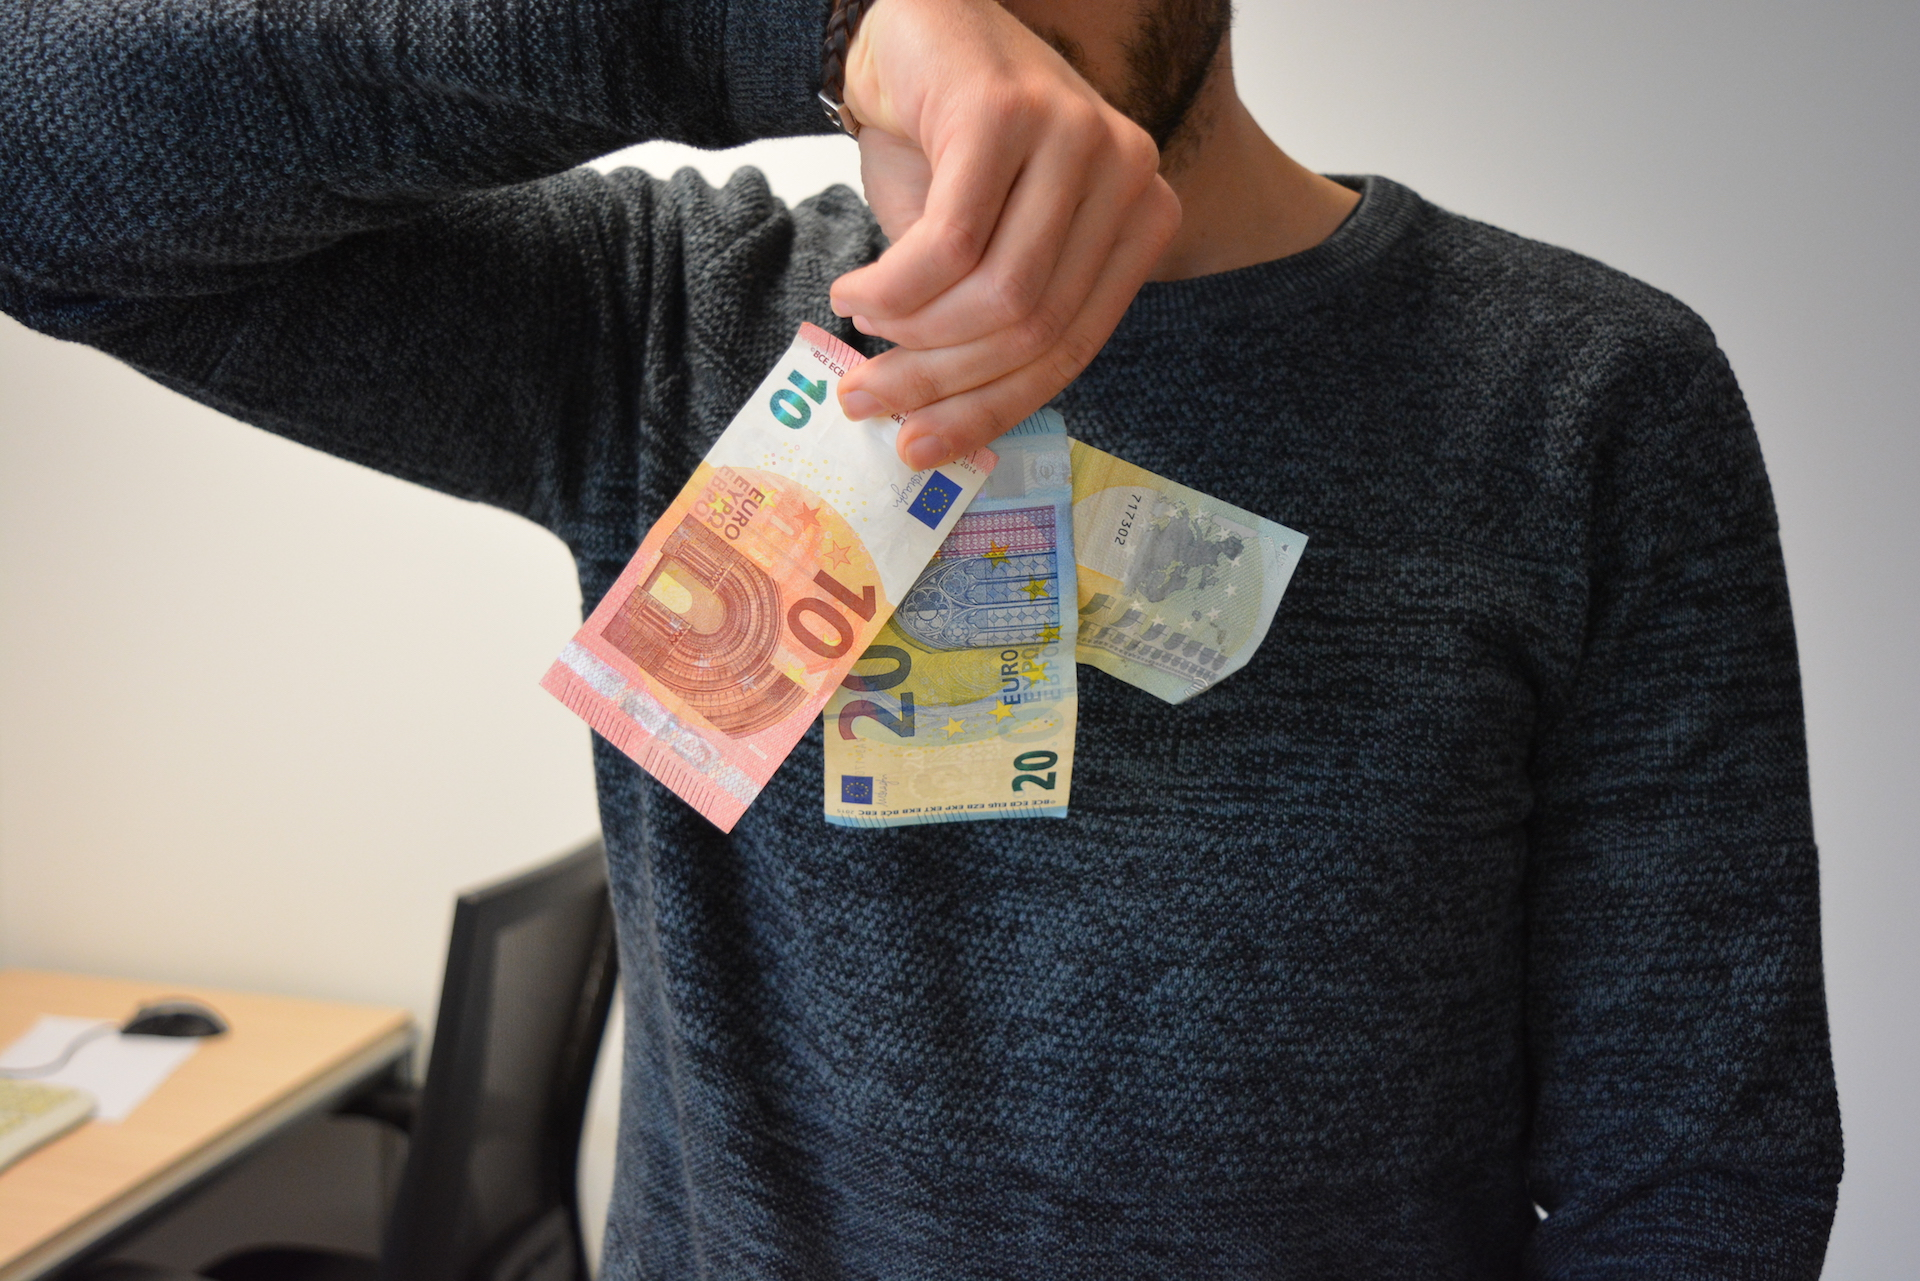billete: (535, 319, 1004, 838), (821, 406, 1079, 831), (1067, 433, 1312, 708)
